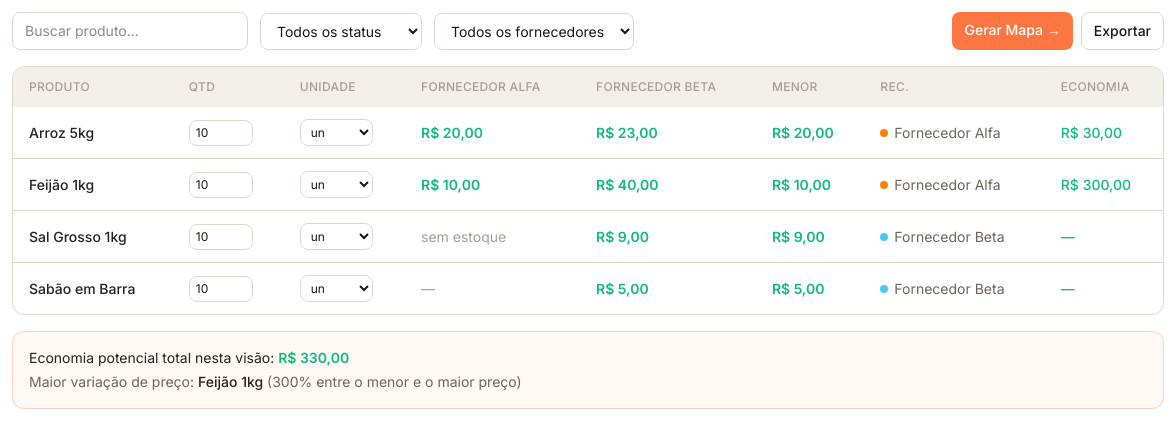
Test case: TabelaComparativa — filtros › busca por nome de produto filtra a lista, case-insensitive
The width and height of the screenshot is (1176, 426).
Type "sal" into the field with placeholder "Buscar produto..." at (130, 31), box [12,12,248,50]
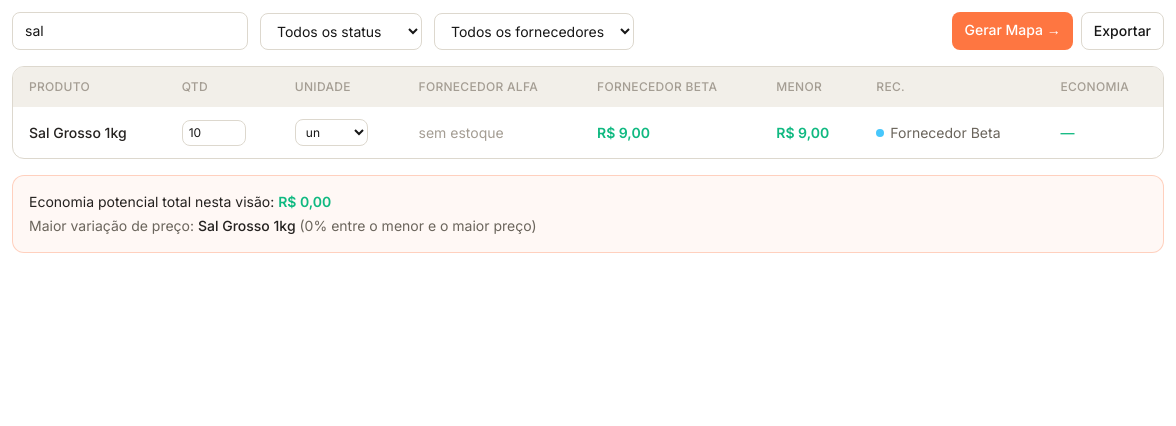
Expected: the text "Arroz 5kg" is gone
Expected: the text "Feijão 1kg" is gone
Expected: the text "Sabão em Barra" is gone
